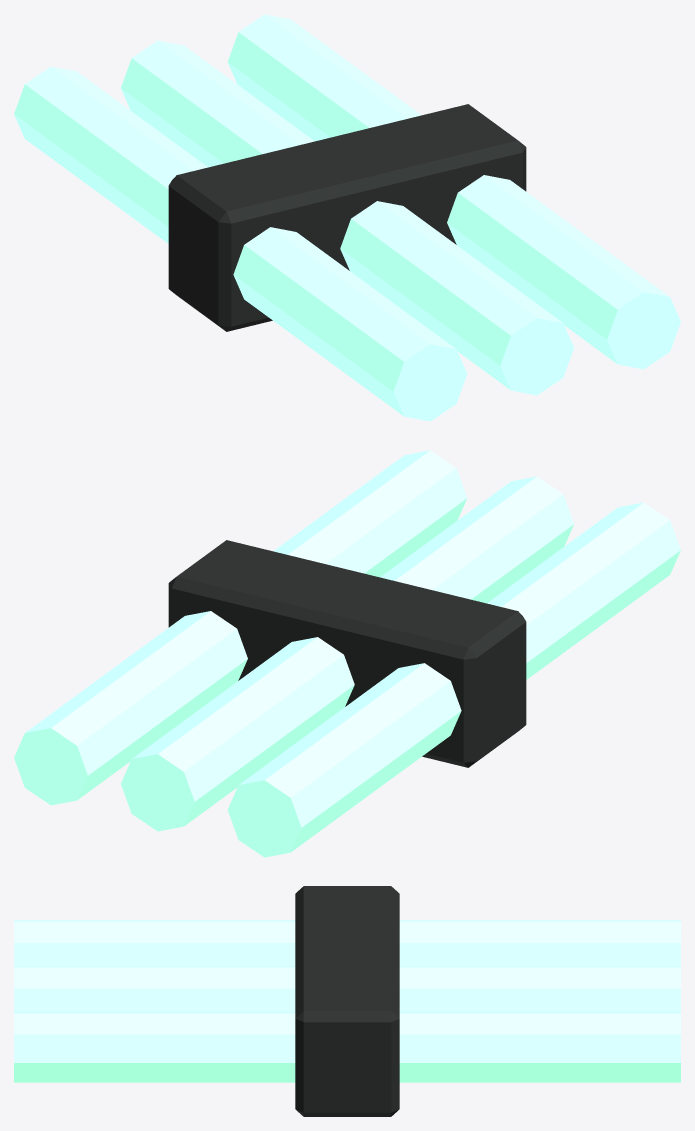
The model's file is sticks.glb.
3 views of the same model, one above another, from view 1: azimuth 30°, elevation 25°; view 2: azimuth 150°, elevation 25°; view 3: azimuth 270°, elevation 25° (orthographic). The views are drawn at different scales.
Parts seen in each view (by area): view 1: glowstick, band, glowstick.002, glowstick.001; view 2: glowstick, band, glowstick.002, glowstick.001; view 3: glowstick.002, glowstick, glowstick.001, band.
Boxes of the visible parts, x1,y1,x2,y2 form: glowstick: (14, 66, 467, 421); band: (168, 104, 526, 331); glowstick.002: (227, 14, 680, 369); glowstick.001: (121, 40, 573, 395); glowstick: (227, 502, 680, 857); band: (168, 540, 526, 767); glowstick.002: (14, 450, 467, 805); glowstick.001: (121, 476, 573, 831); glowstick.002: (14, 1012, 680, 1082); glowstick: (14, 920, 680, 966); glowstick.001: (14, 966, 680, 1011); band: (295, 886, 399, 1116).
Bounding box in the file's own units: 0.075 × 0.028 × 0.16.
